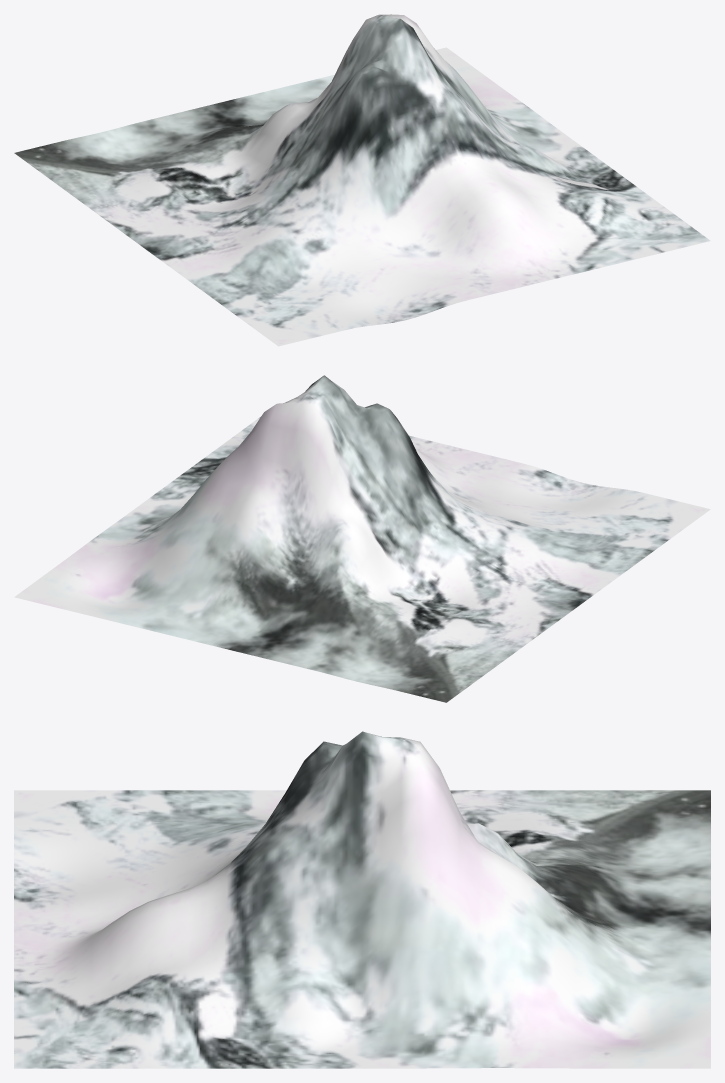
The model's file is mountain.fbx.
The picture shows the model from 3 angles, top to bottom: view 1: azimuth 30°, elevation 25°; view 2: azimuth 150°, elevation 25°; view 3: azimuth 270°, elevation 25°; orthographic projection. The views are drawn at different scales.
Visible parts, largest first — view 1: SketchUp; view 2: SketchUp; view 3: SketchUp.
Boxes of the visible parts, left/top/right/bottom form: SketchUp: left=14, top=14, right=710, bottom=346; SketchUp: left=14, top=375, right=710, bottom=702; SketchUp: left=14, top=731, right=710, bottom=1068.
Bounding box in the file's own units: 102 × 40.25 × 108.
1 material, 1 textured.
